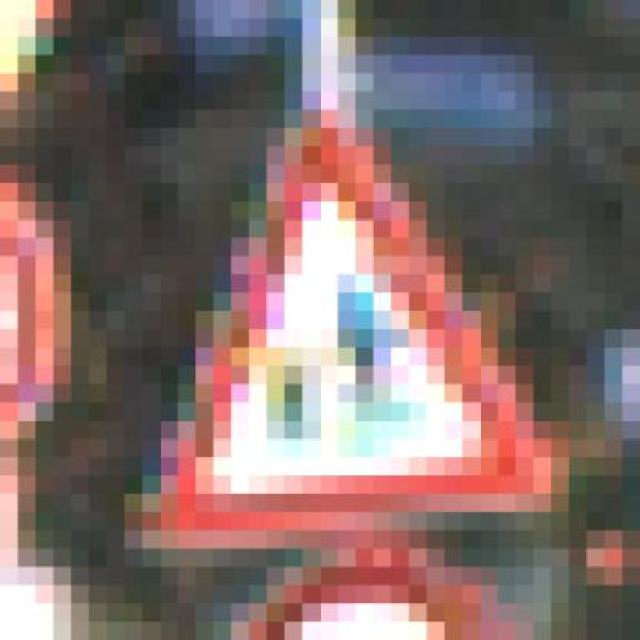Beware of children: (106, 110, 569, 548)
